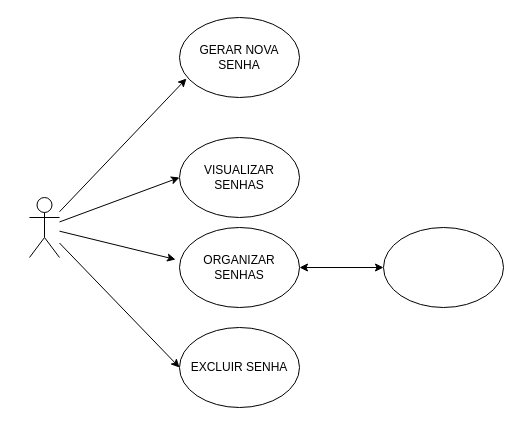
This 521x425 diagram has some shape labels left out. The shapes that lost their labels are listed below. From the top down, each one's centre as x and y in pixels, then its label:
At point (44, 227): "USUÁRIO".
At point (443, 267): "ORDENAR POR ORDEM ALFABETICA".
